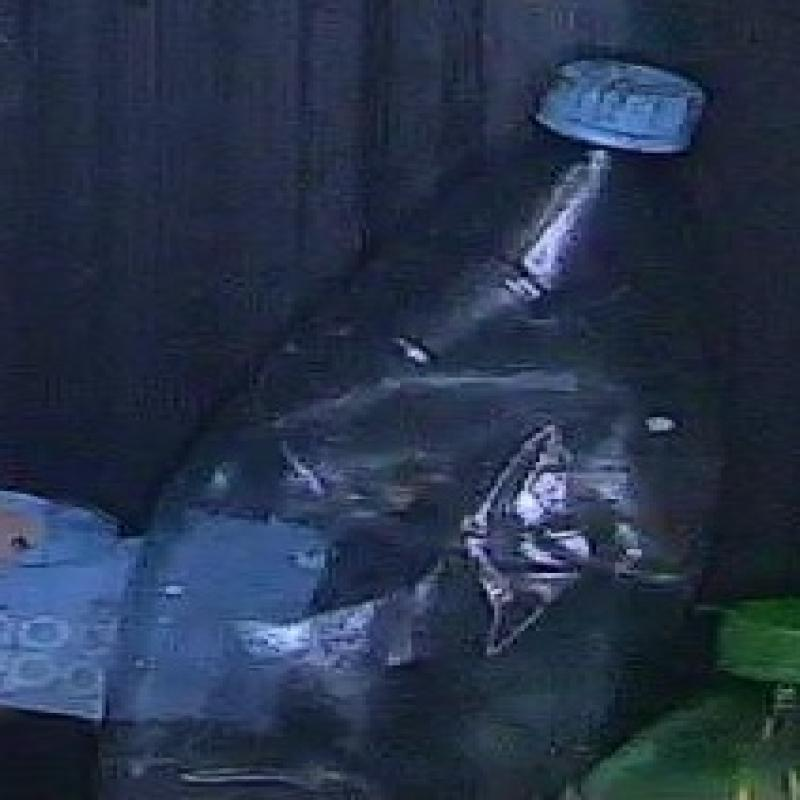botella: (124, 53, 703, 800), (560, 596, 800, 800)
